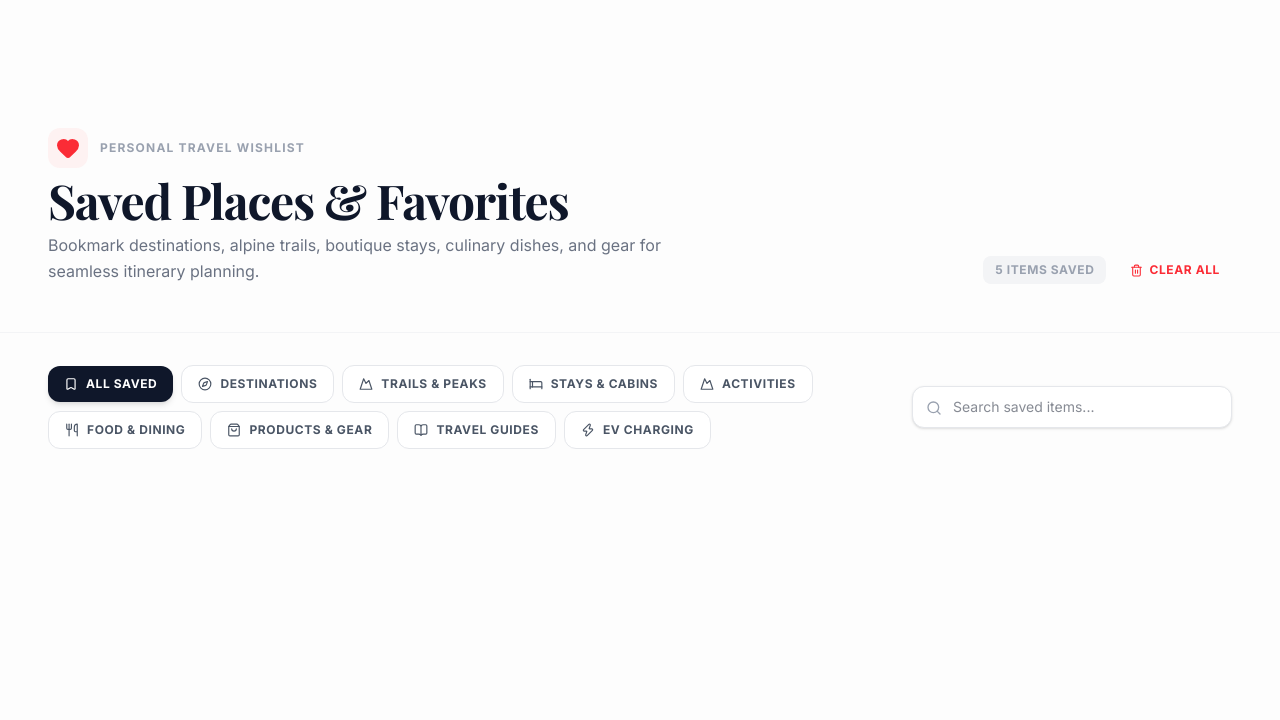
Test case: Phase B — Change 5: Complete Favorites System Integration › /favorites Page Hydration and Category Filters › hydrates and renders saved destinations, hotels, food, and gear from Supabase
Expected: the heading "Saved Places & Favorites" is shown, [48,168,568,232]
Note: Filter by Stays category
Click the button "Stays & Cabins": (593, 384) [512,365,675,403]
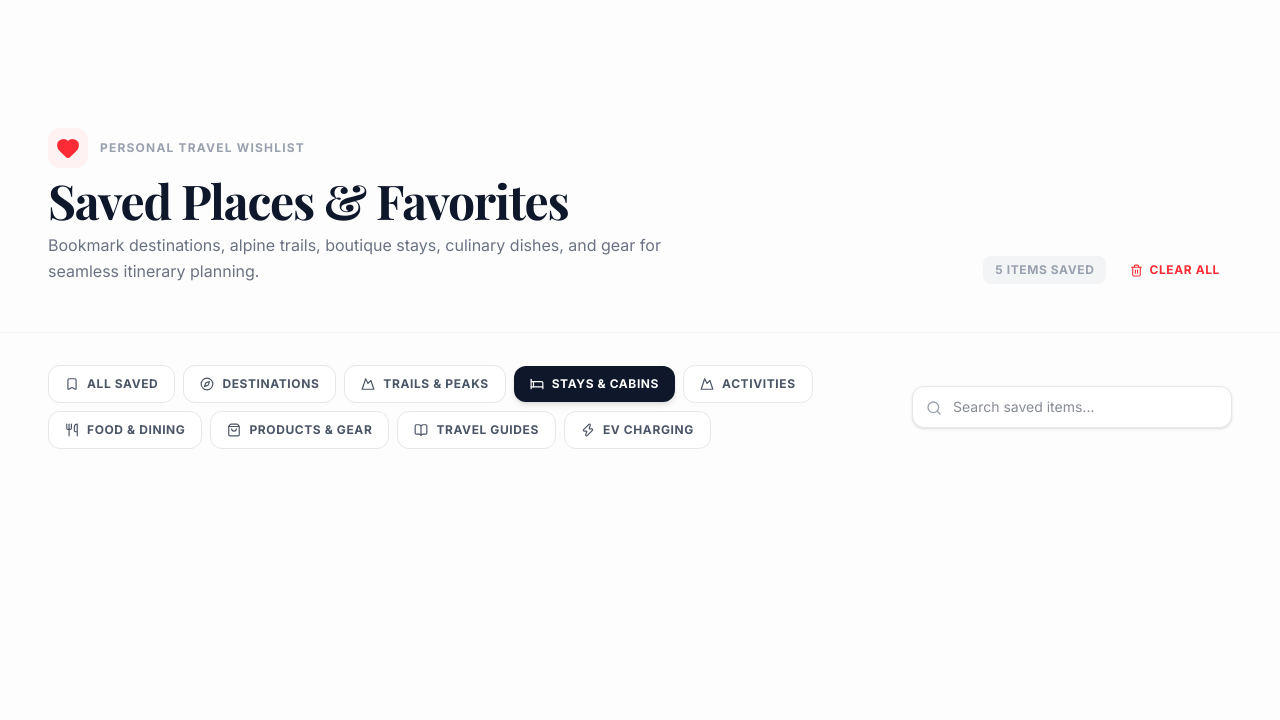
Note: Filter by Food category
Click the button "Food & Dining": (125, 430) [48,411,202,449]
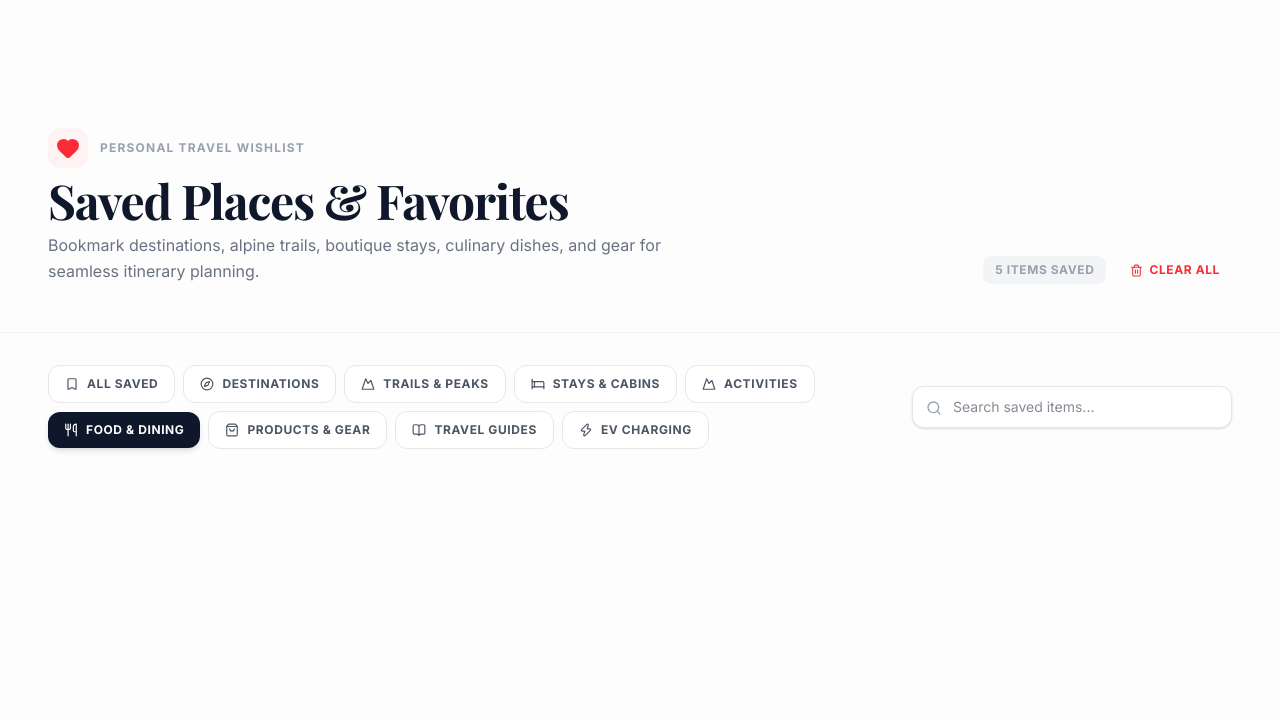
Note: Filter by Products & Gear
Click the button "Products & Gear": (298, 430) [208,411,387,449]
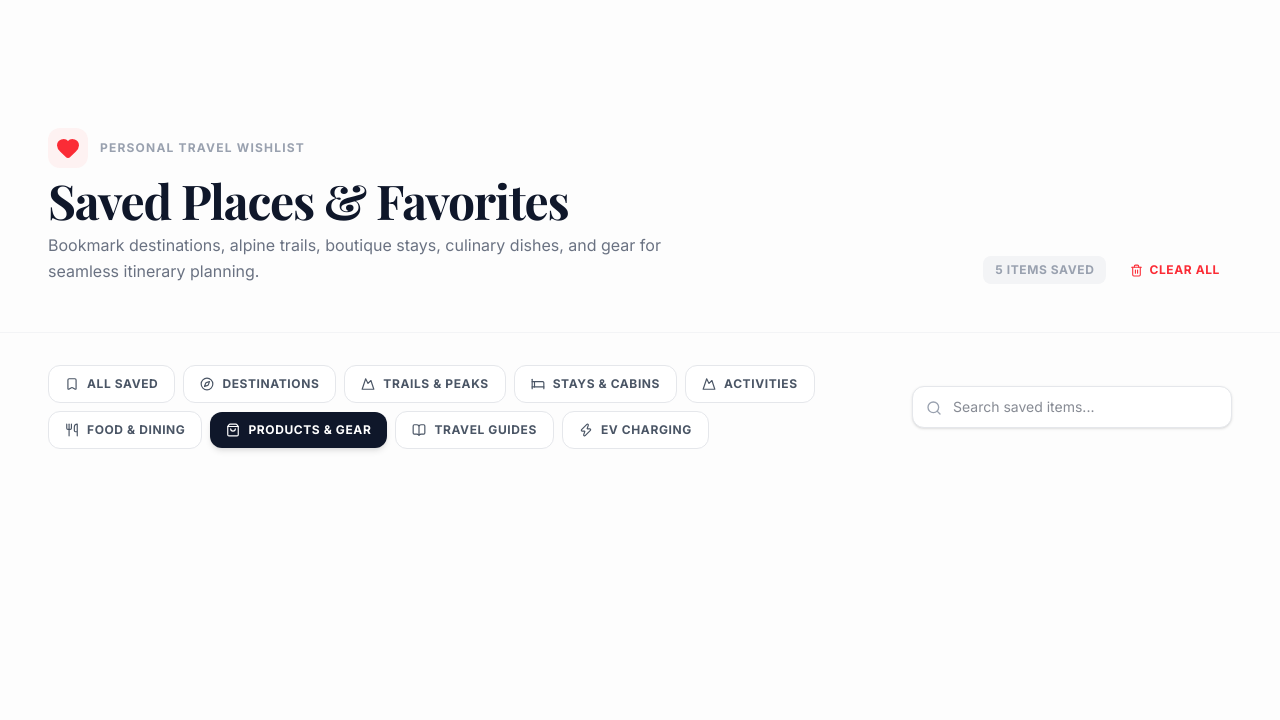
Note: Filter by Travel Guides
Click the button "Travel Guides": (475, 430) [395,411,554,449]
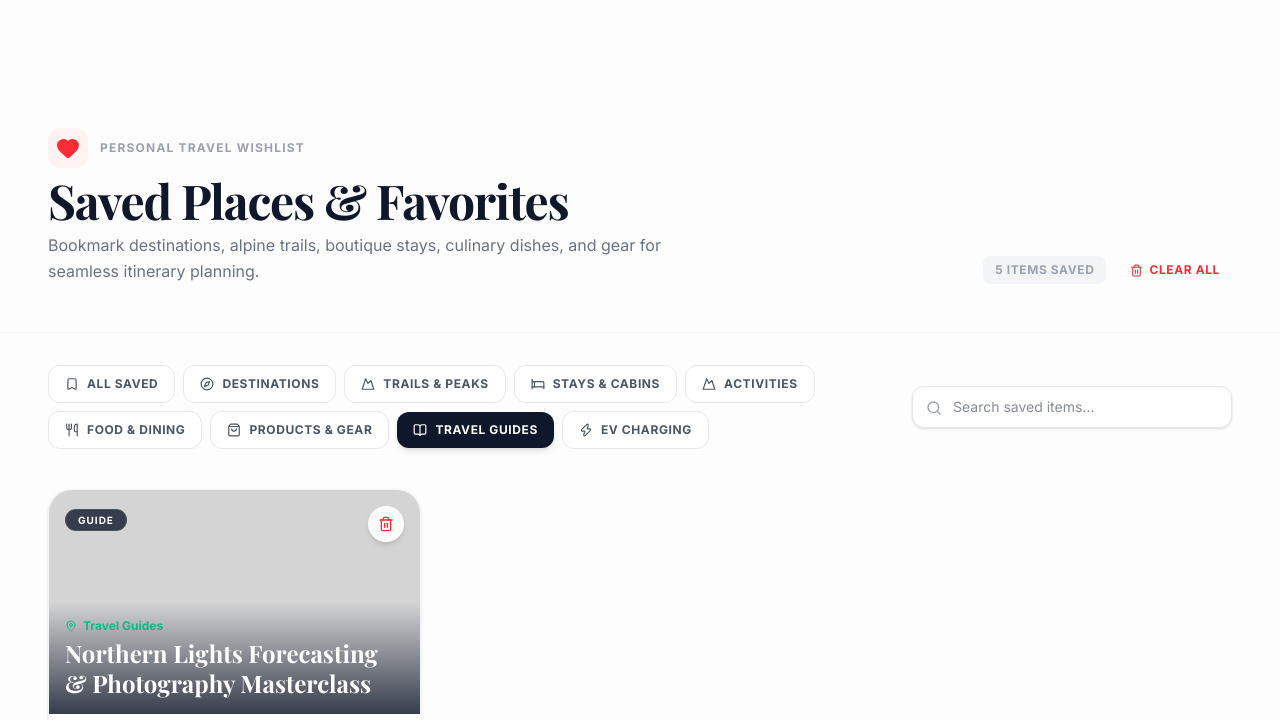
Now the heading "Northern Lights Forecasting & Photography Masterclass" is shown, box [65,638,404,698]
